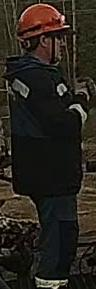gloves: (74, 76, 96, 106)
helmet: (16, 3, 71, 41)
vest: (2, 55, 83, 198)
